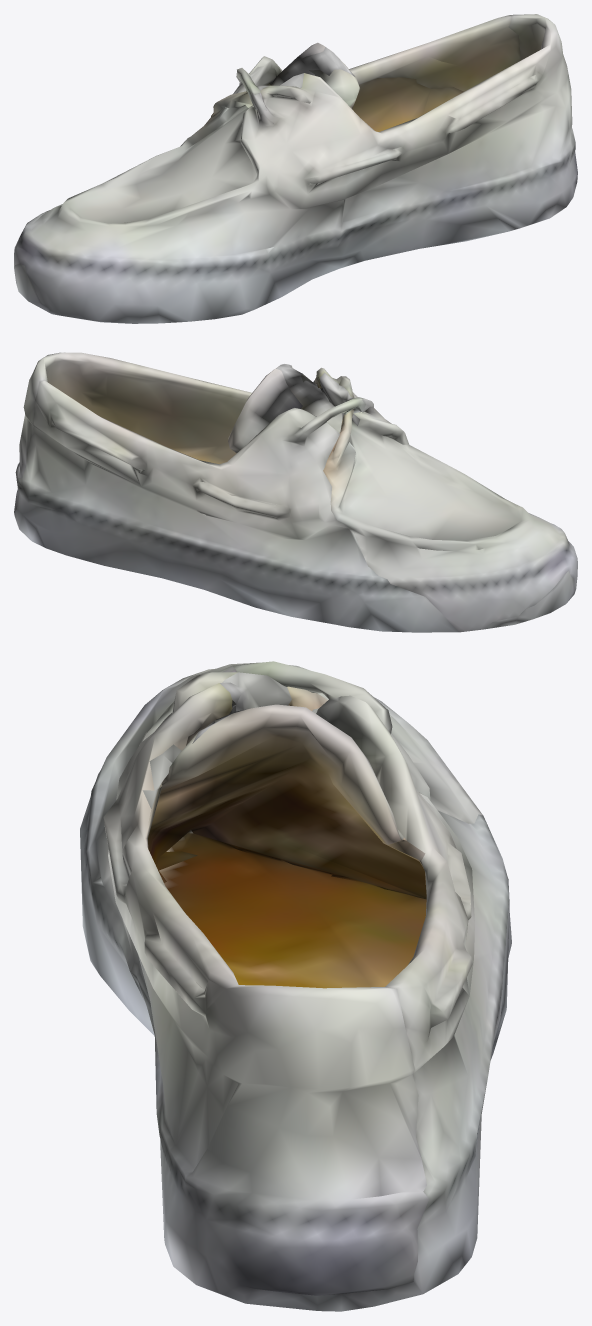
The model's file is Womens_Sequin_Bahama_in_White_Sequin_V9K1hf24Oxe-medium.glb.
3 views of the same model, one above another, from view 1: azimuth 30°, elevation 25°; view 2: azimuth 150°, elevation 25°; view 3: azimuth 270°, elevation 25° (orthographic). The views are drawn at different scales.
Visible parts, largest first — view 1: Womens_Sequin_Bahama_in_White_Sequin_V9K1hf24Oxe; view 2: Womens_Sequin_Bahama_in_White_Sequin_V9K1hf24Oxe; view 3: Womens_Sequin_Bahama_in_White_Sequin_V9K1hf24Oxe.
Part boxes in pixels (x1=…): Womens_Sequin_Bahama_in_White_Sequin_V9K1hf24Oxe: x1=14, y1=14, x2=577, y2=323; Womens_Sequin_Bahama_in_White_Sequin_V9K1hf24Oxe: x1=14, y1=352, x2=577, y2=632; Womens_Sequin_Bahama_in_White_Sequin_V9K1hf24Oxe: x1=80, y1=661, x2=511, y2=1311.
Bounding box in the file's own units: 0.249 × 0.0867 × 0.0879.
Materials: 1 (1 with a texture image).
